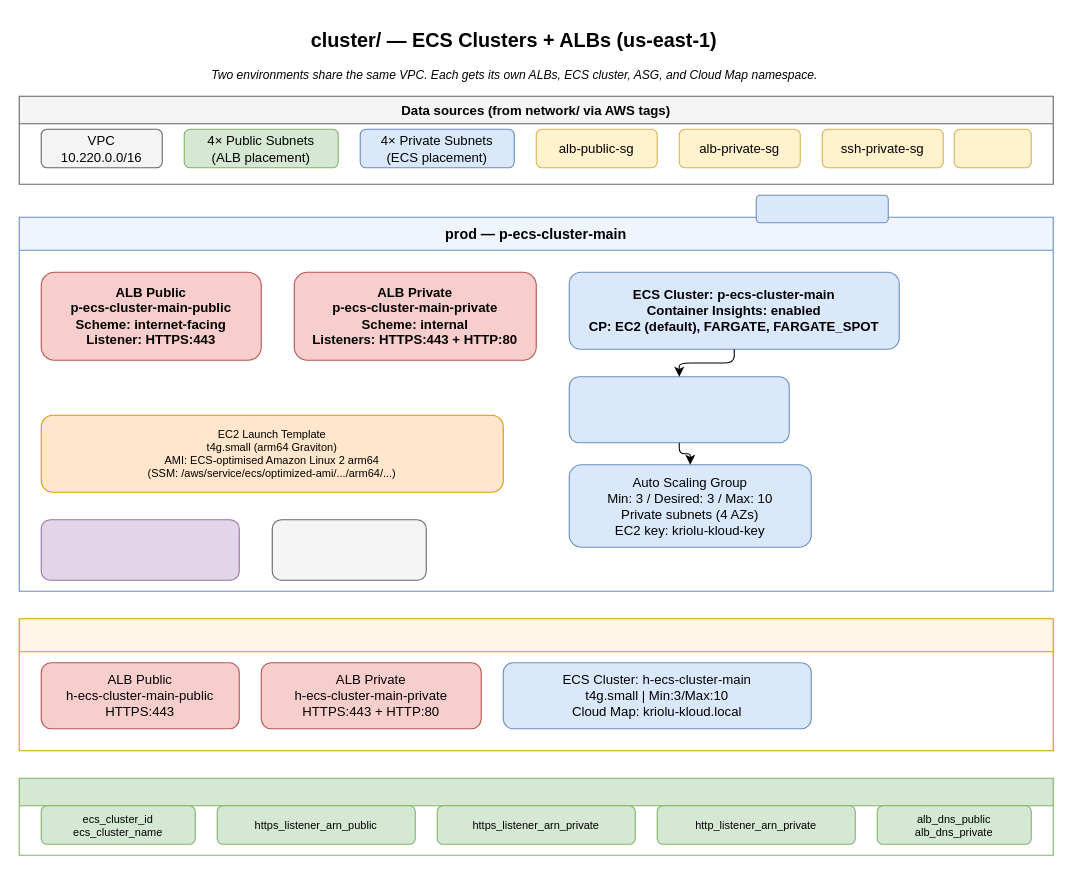
Image size: 1073x875. Some labels were removed from this diagram. The shapes that lost their labels are listed below. From the top down, each one's box as (x1, y1, x2, y2) in pixels, then its label:
(953, 128, 1031, 168): ACM: *.kriolu-kloud.cv + private cert
(755, 194, 888, 223): Backend S3
(568, 376, 789, 443): Capacity Provider p-ecs-cluster-main-cp Managed scaling: ON
(40, 519, 239, 580): Cloud Map Private DNS Namespace kriolu-kloud.local
(271, 519, 426, 580): EC2 Key Pair kriolu-kloud-key
(18, 618, 1053, 751): homolog — h-ecs-cluster-main (same resources, different base_name prefix)
(18, 777, 1053, 855): Outputs consumed by apps/ stacks
